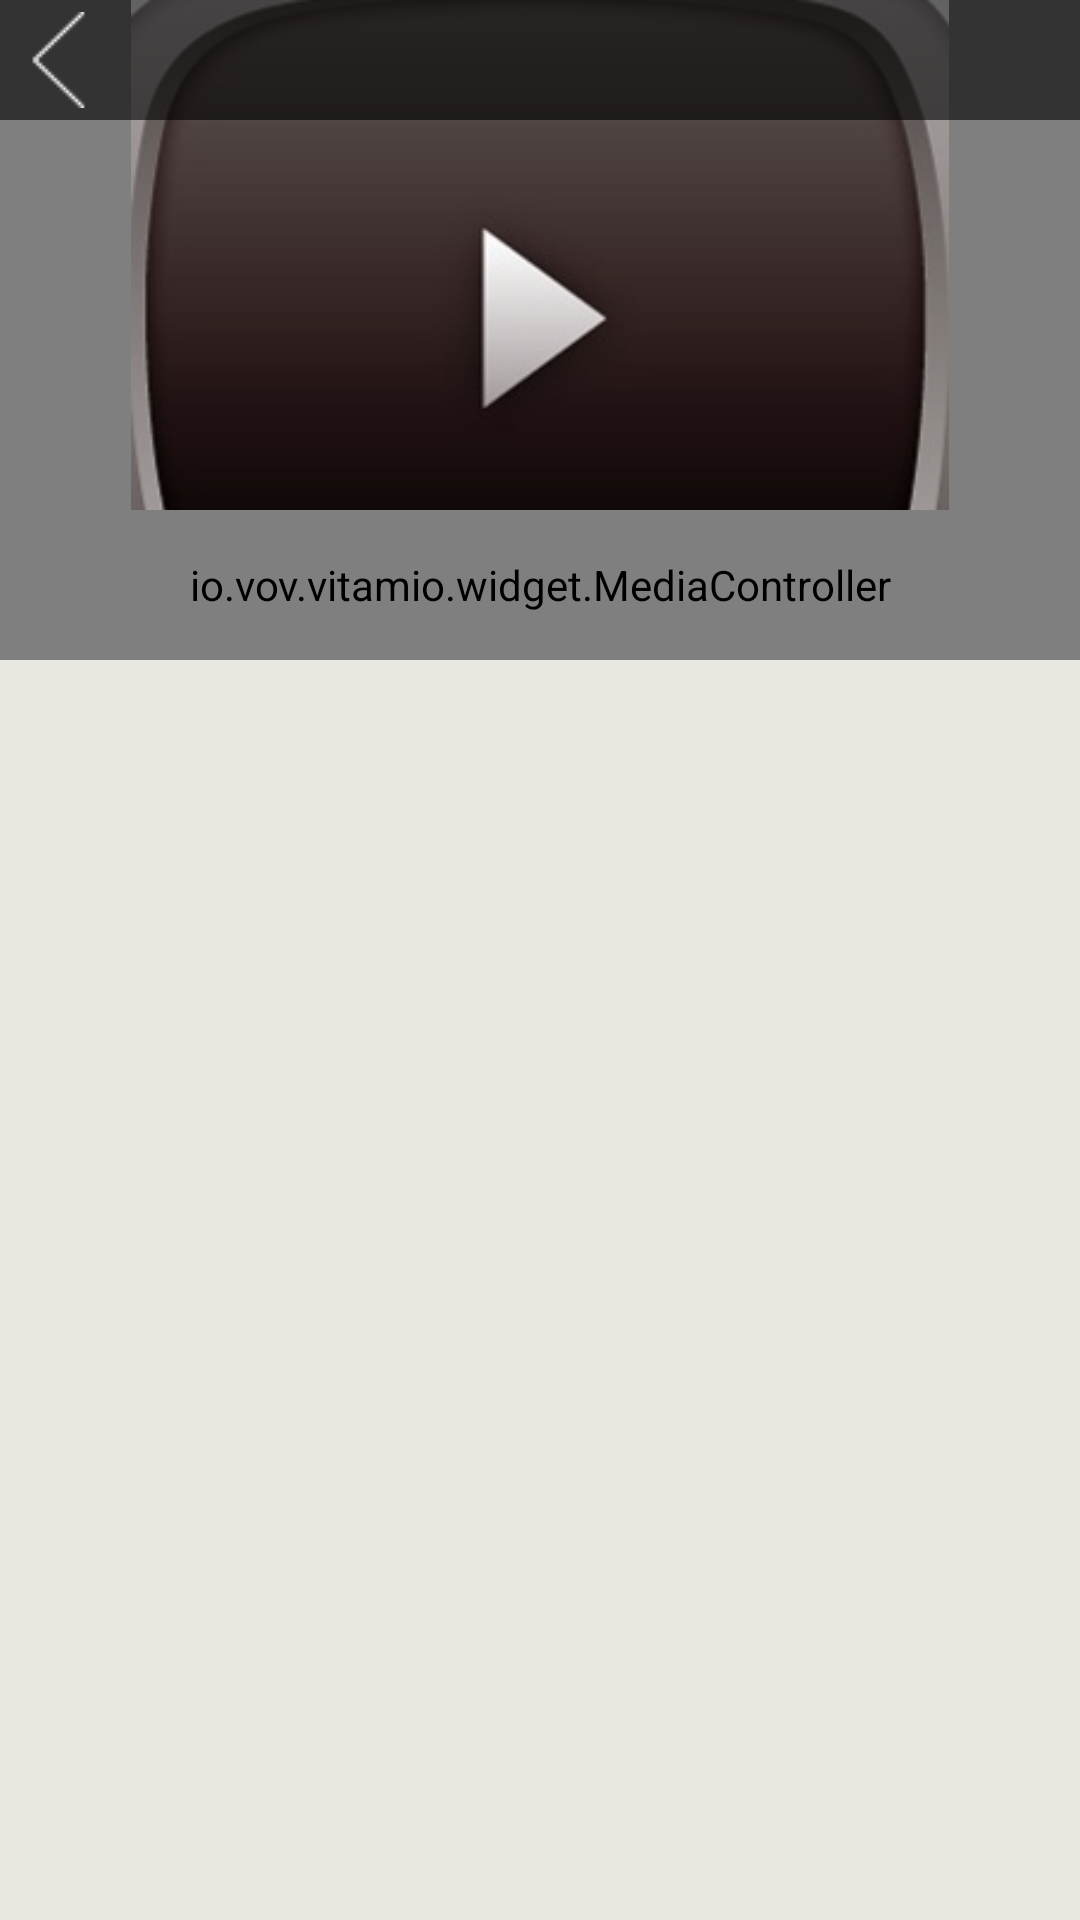

Where to tap for icons on this 1080px x 1920px app screen, as (x,y):
arrow left: (58,60)
